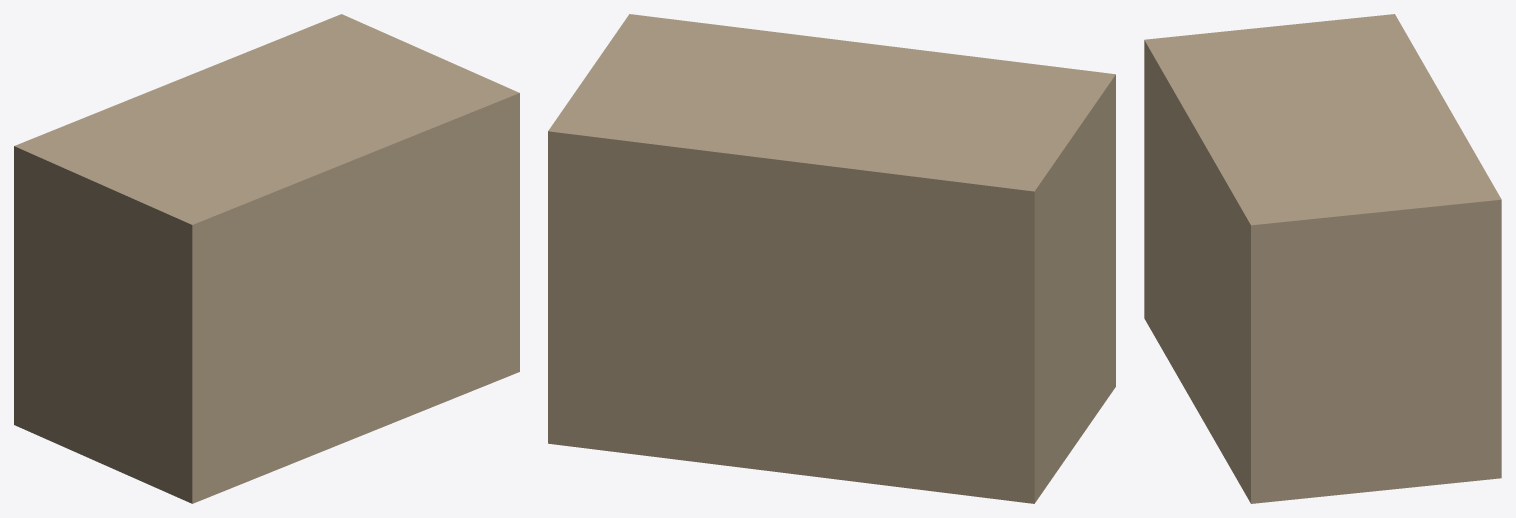
File: bld_107639084.dae
3 renders of one model, left to right at view 1: azimuth 30°, elevation 25°; view 2: azimuth 150°, elevation 25°; view 3: azimuth 270°, elevation 25°, orthographic. The views are drawn at different scales.
Parts seen in each view (by area): view 1: bld_107639084; view 2: bld_107639084; view 3: bld_107639084.
Part boxes in pixels (<box>): bld_107639084: <box>14,14,519,503</box>; bld_107639084: <box>548,14,1115,503</box>; bld_107639084: <box>1144,14,1501,503</box>.
Bounding box in the file's own units: 13.02 × 9.3 × 8.
